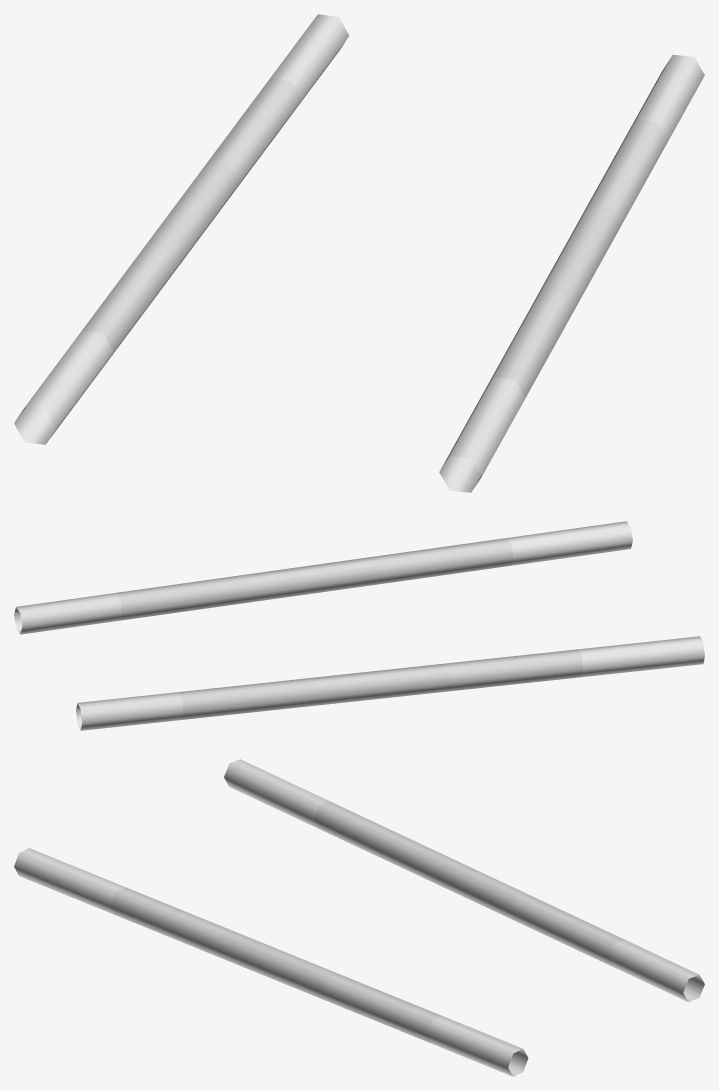
File: nycsignalarm_diagonal12_c18.obj
3 views of the same model, one above another, from view 1: azimuth 30°, elevation 25°; view 2: azimuth 150°, elevation 25°; view 3: azimuth 270°, elevation 25° (orthographic). The views are drawn at different scales.
Parts seen in each view (by area): view 1: nycsignalarm_diagonal12_c18; view 2: nycsignalarm_diagonal12_c18; view 3: nycsignalarm_diagonal12_c18.
Boxes of the visible parts, x1,y1,x2,y2 form: nycsignalarm_diagonal12_c18: (14,14,704,492); nycsignalarm_diagonal12_c18: (14,521,704,730); nycsignalarm_diagonal12_c18: (14,759,704,1076).
Size of the model in its own units: 1.45 by 0.0696 by 1.45.
